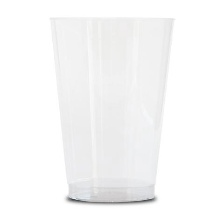glass: (38, 13, 180, 211)
